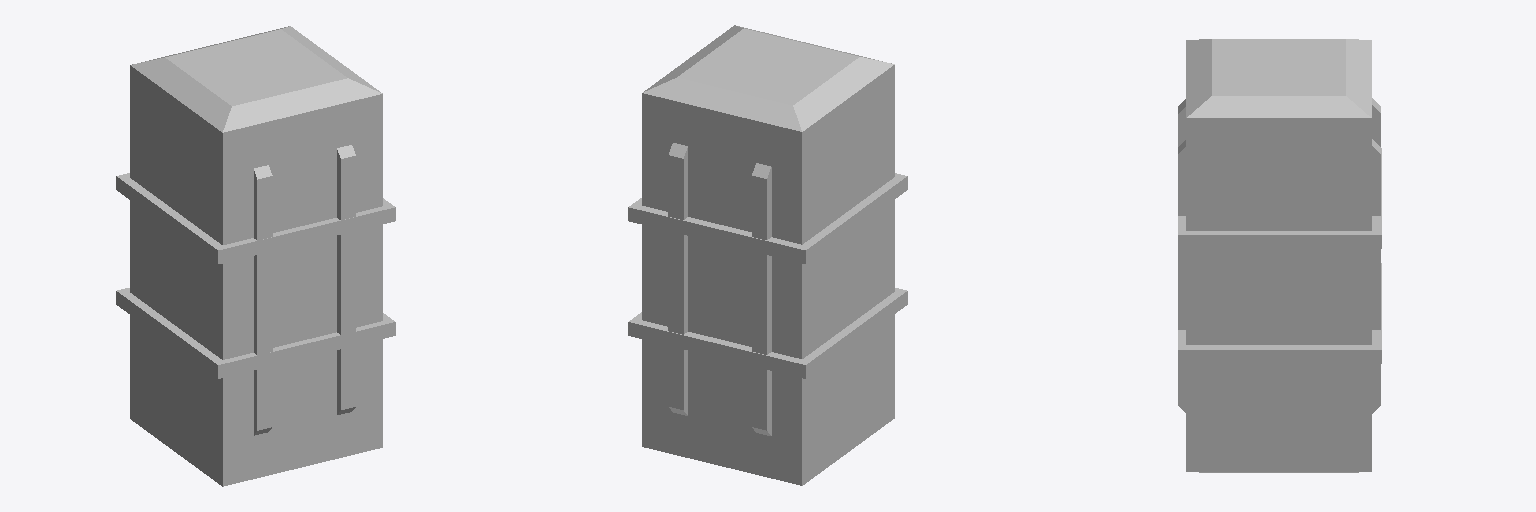
File: crate.obj
3 views of the same model, side by side, from view 1: azimuth 30°, elevation 25°; view 2: azimuth 150°, elevation 25°; view 3: azimuth 270°, elevation 25° (orthographic).
Size of the model in its own units: 2.21 by 4.49 by 2.2.